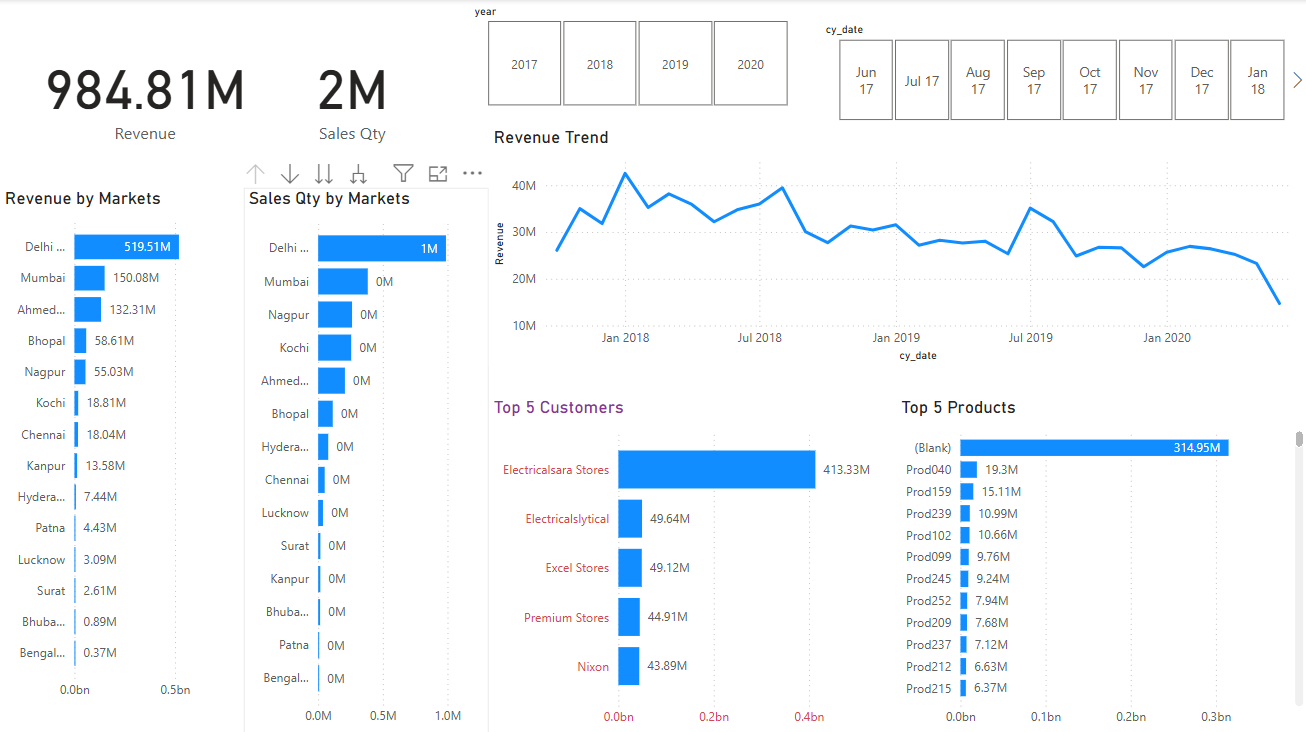

The dashboard page shown, as its layout file describes it:
{"tool":"powerbi","page":{"name":"Page 1","canvas":[1280,720],"ordinal":0},"visuals":[{"type":"card","fields":{"Values":["Basemeausres.Revenue"]},"box":[31.6,0,220.9,185.2],"z":0},{"type":"card","fields":{"Values":["Basemeausres.Sales Qty"]},"box":[238.8,0,212.7,185.2],"z":1000},{"type":"barChart","title":"Revenue by Markets","fields":{"Y":["Basemeausres.Revenue"],"Category":["sales markets.markets_name","sales customers.customer_code"]},"box":[0,185.2,238.8,509.1],"z":2000},{"type":"barChart","title":"Sales Qty by Markets","fields":{"Y":["Basemeausres.Sales Qty"],"Category":["sales markets.markets_name","sales customers.customer_code"]},"box":[238.8,185.2,238.8,535.2],"z":3000},{"type":"slicer","fields":{"Values":["sales date.year"]},"box":[451.5,0,343.1,111.1],"z":4000},{"type":"slicer","fields":{"Values":["sales date.cy_date"]},"box":[794.5,17.8,485.8,107],"z":5000},{"type":"barChart","title":"Top 5 Customers ","fields":{"Y":["Basemeausres.Revenue"],"Category":["sales customers.custmer_name","sales customers.customer_code"]},"box":[477.5,388.3,399.3,332.1],"z":6000},{"type":"barChart","title":"Top 5 Products","fields":{"Y":["Basemeausres.Revenue"],"Category":["sales products.product_code"]},"box":[876.8,388.3,403.4,332.1],"z":7000},{"type":"lineChart","title":"Revenue Trend","fields":{"Y":["Basemeausres.Revenue"],"Category":["sales date.cy_date"]},"box":[477.5,124.9,802.7,234.6],"z":8000}]}

Visuals, with their boxes in screenshot pixels (x1, y1, x2, y2), scaled from the page's 1280x720 canvas onto the 1306x732 screenshot:
card - Basemeausres.Revenue: x1=32, y1=0, x2=258, y2=188
card - Basemeausres.Sales Qty: x1=244, y1=0, x2=461, y2=188
"Revenue by Markets" barChart: x1=0, y1=188, x2=244, y2=706
"Sales Qty by Markets" barChart: x1=244, y1=188, x2=487, y2=731
slicer - sales date.year: x1=461, y1=0, x2=811, y2=113
slicer - sales date.cy_date: x1=811, y1=18, x2=1305, y2=127
"Top 5 Customers " barChart: x1=487, y1=395, x2=895, y2=731
"Top 5 Products" barChart: x1=895, y1=395, x2=1305, y2=731
"Revenue Trend" lineChart: x1=487, y1=127, x2=1305, y2=365
